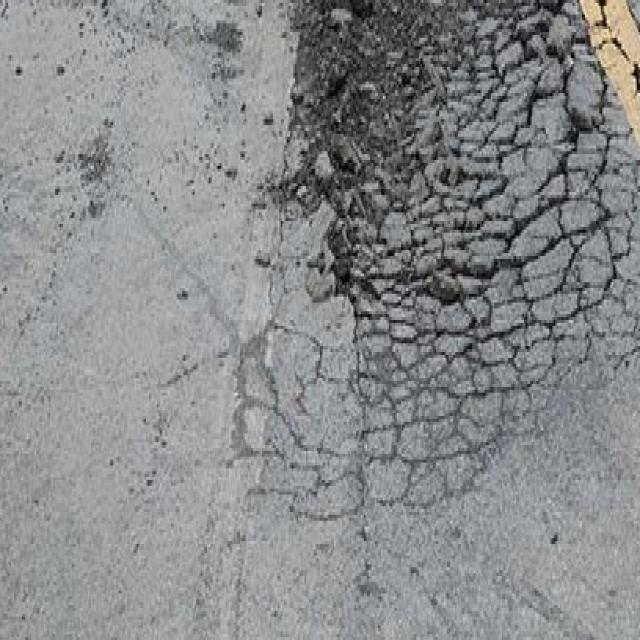Drain Hole: (473, 104, 640, 362)
